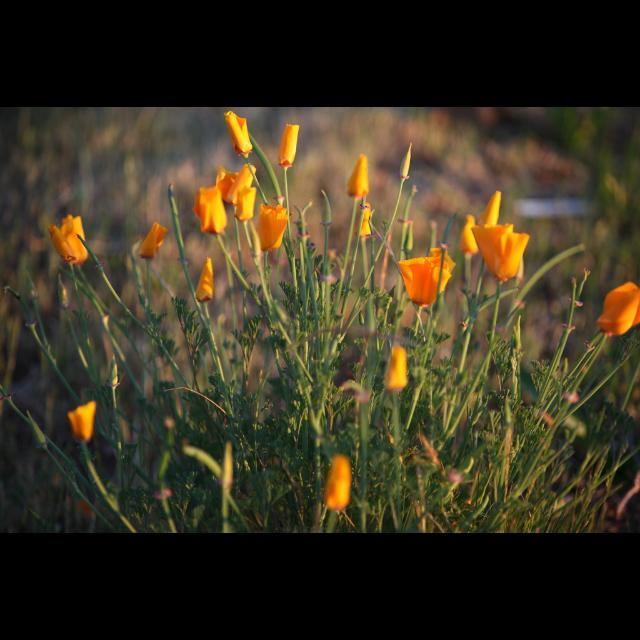Flower: (472, 223, 532, 285), (398, 247, 458, 305), (598, 281, 640, 333), (44, 217, 86, 266), (214, 164, 258, 204), (192, 188, 228, 234), (323, 454, 349, 514), (223, 110, 254, 156), (258, 205, 288, 252), (136, 222, 168, 260), (66, 402, 94, 442), (194, 258, 216, 304), (348, 154, 369, 198), (386, 346, 406, 390), (478, 192, 504, 224), (279, 125, 299, 165), (351, 200, 371, 237), (460, 215, 478, 255), (235, 186, 255, 220)
